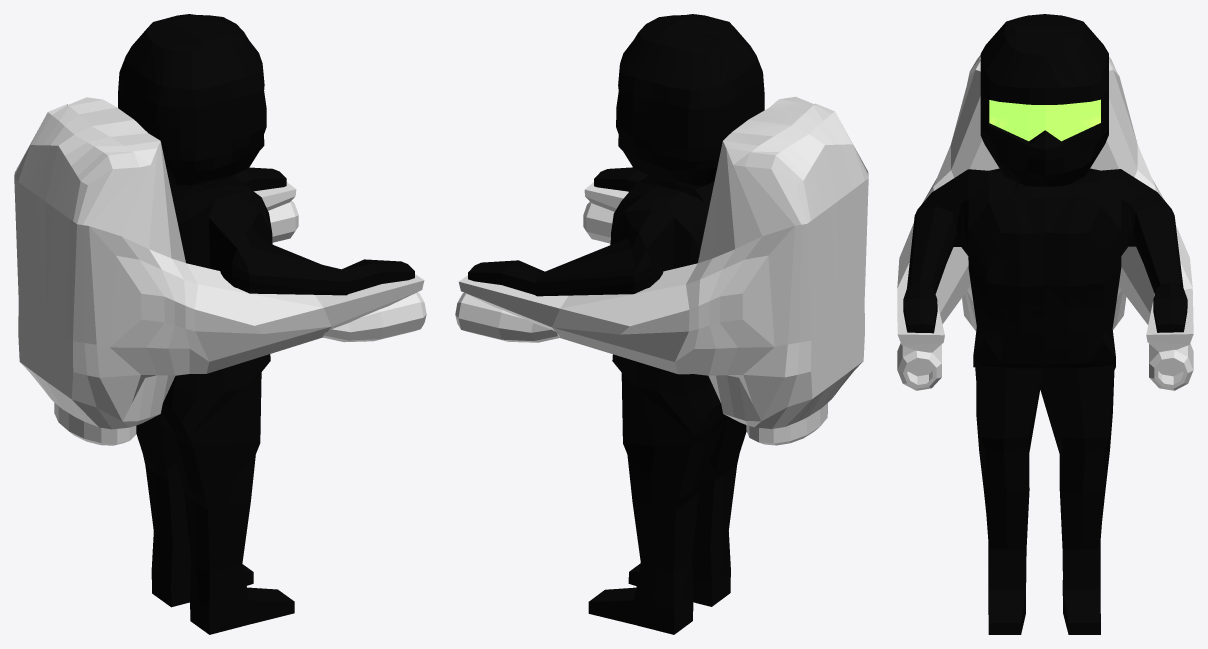
The model's file is 22_jet_v1_4.fbx.
3 renders of one model, left to right at view 1: azimuth 30°, elevation 25°; view 2: azimuth 150°, elevation 25°; view 3: azimuth 270°, elevation 25°, orthographic.
Visible parts, largest first — view 1: Cube.009, Cylinder.001, Cylinder.002, Cylinder; view 2: Cube.009, Cylinder, Cylinder.002, Cylinder.001; view 3: Cube.009, Cylinder, Cylinder.001.
Part boxes in pixels (x1=…): Cube.009: x1=14, y1=14, x2=424, y2=634; Cylinder.001: x1=323, y1=292, x2=426, y2=342; Cylinder.002: x1=54, y1=402, x2=136, y2=445; Cylinder: x1=268, y1=200, x2=298, y2=242; Cube.009: x1=458, y1=14, x2=868, y2=634; Cylinder: x1=455, y1=293, x2=559, y2=342; Cylinder.002: x1=746, y1=403, x2=827, y2=445; Cylinder.001: x1=583, y1=201, x2=614, y2=243; Cube.009: x1=897, y1=14, x2=1193, y2=634; Cylinder: x1=1149, y1=343, x2=1193, y2=390; Cylinder.001: x1=897, y1=343, x2=941, y2=390.
Size of the model in its own units: 112 by 200 by 94.22.
